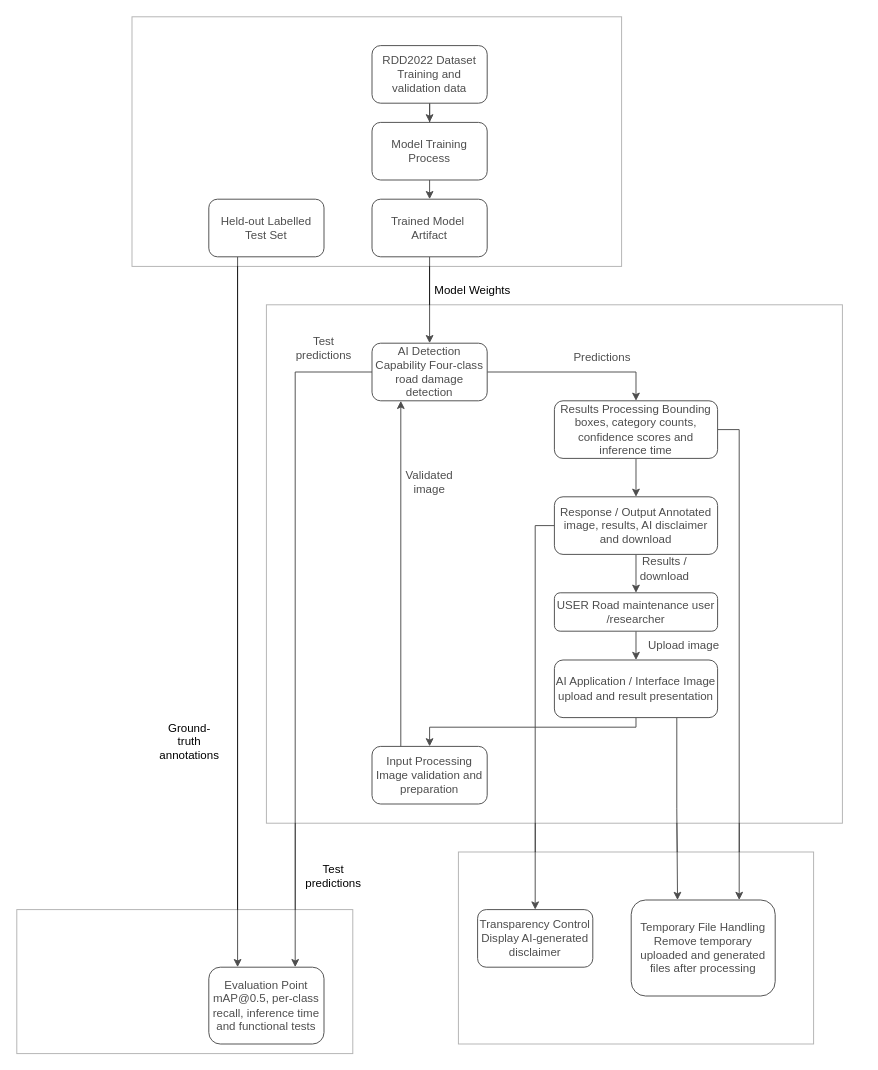
The diagram is 878 pixels wide and 1070 high, and some of its shapes have lost their labels. The shapes that lost their labels are listed below. From the top down, each one's centre as x and y in pixels, then its label:
(376,141): MODEL & DATA SUPPORT
(553,563): V1 APPLICATION – RUNTIME
(635,947): RESPONSIBLE AI CONTROLS
(184,981): EVALUATION
